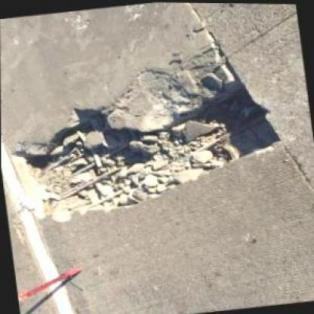Hueco: (0, 65, 292, 228)
